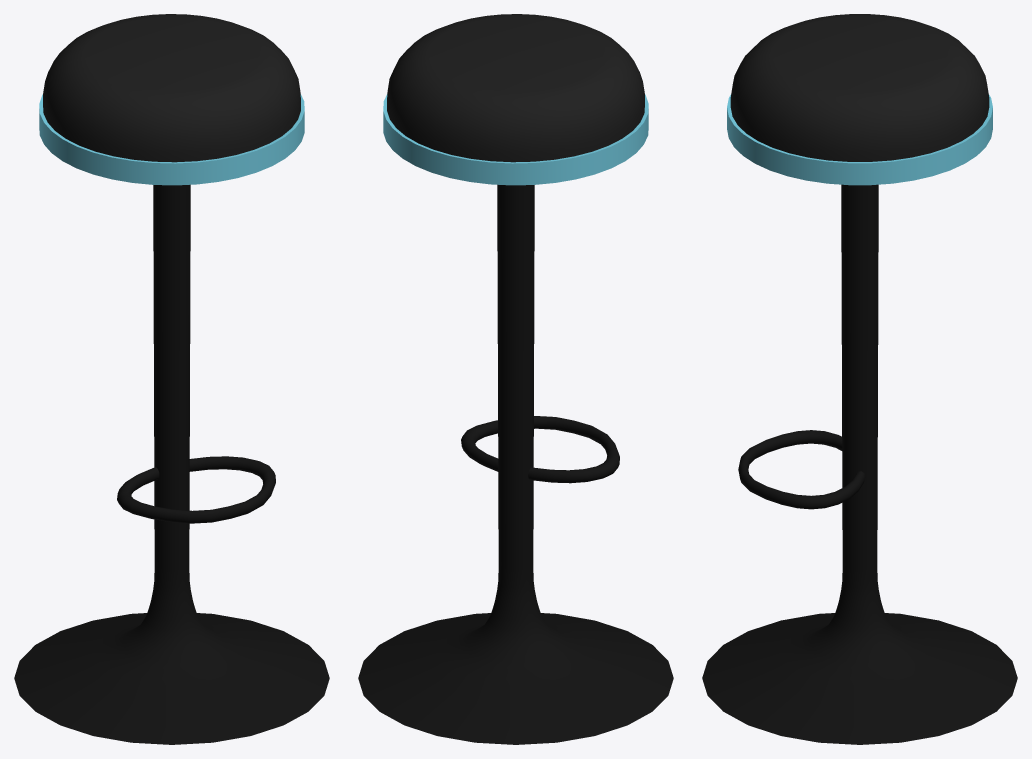
Rendered from tabouret.fbx.
3 views of the same model, side by side, from view 1: azimuth 30°, elevation 25°; view 2: azimuth 150°, elevation 25°; view 3: azimuth 270°, elevation 25° (orthographic).
Parts seen in each view (by area): view 1: Tabouret; view 2: Tabouret; view 3: Tabouret.
Part boxes in pixels (bbox=[...]): Tabouret: bbox=[14, 14, 329, 744]; Tabouret: bbox=[358, 14, 673, 744]; Tabouret: bbox=[702, 14, 1017, 744].
Bounding box in the file's own units: 45.3 × 98.99 × 45.3.
